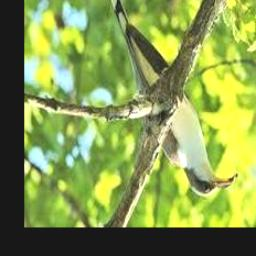Cuckoo: (99, 0, 234, 197)
